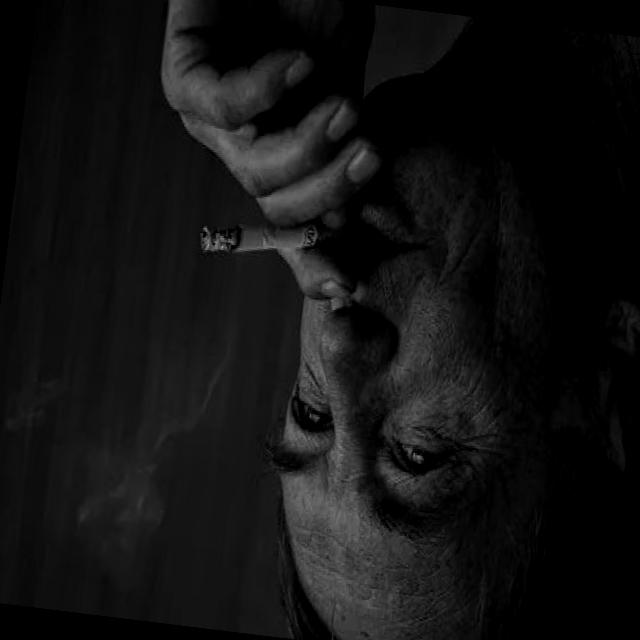cigarette: (192, 186, 374, 284)
